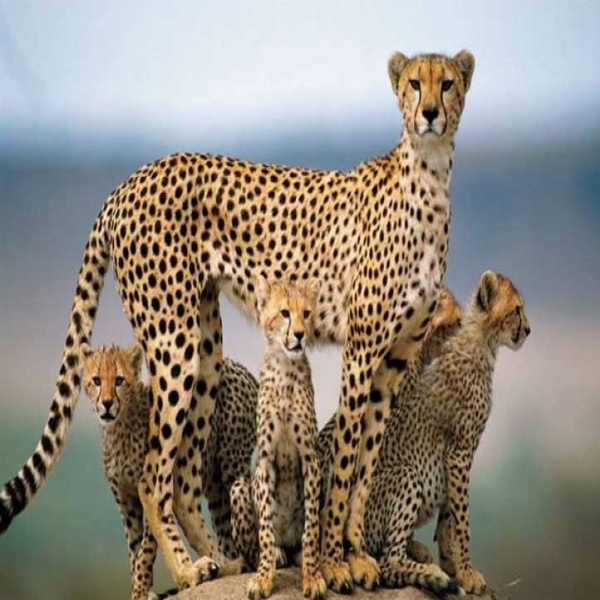Cheetah: (2, 44, 482, 596), (367, 268, 535, 595), (79, 345, 266, 597), (227, 278, 329, 600)
